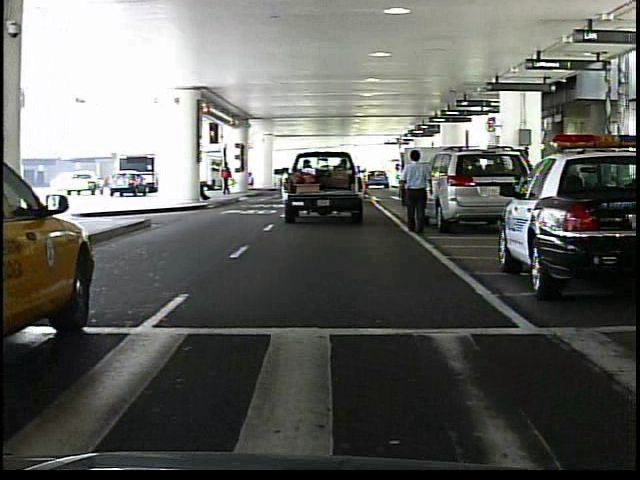person: (396, 143, 438, 235), (220, 161, 237, 197)
